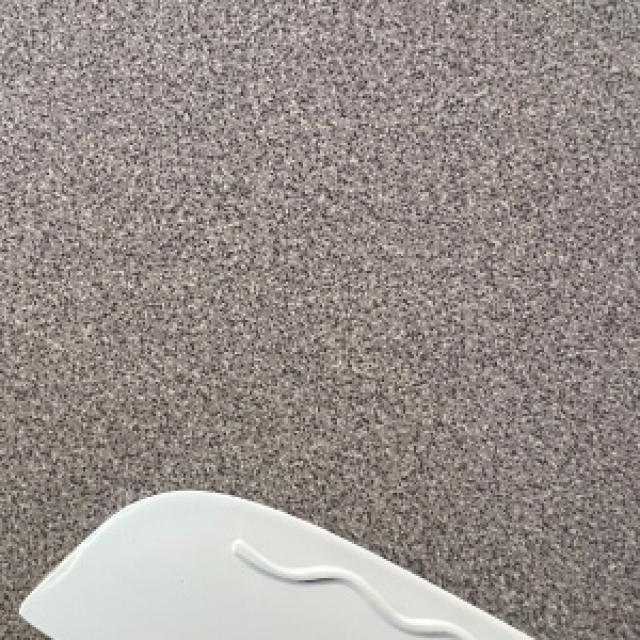healthy: (17, 491, 514, 638)
